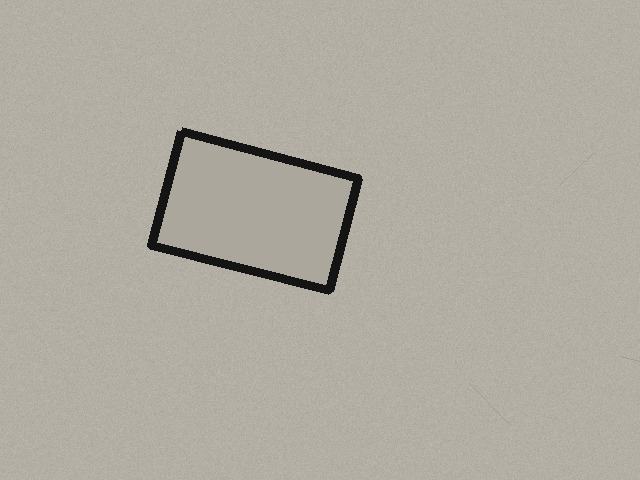parking_area: (151, 131, 358, 290)
